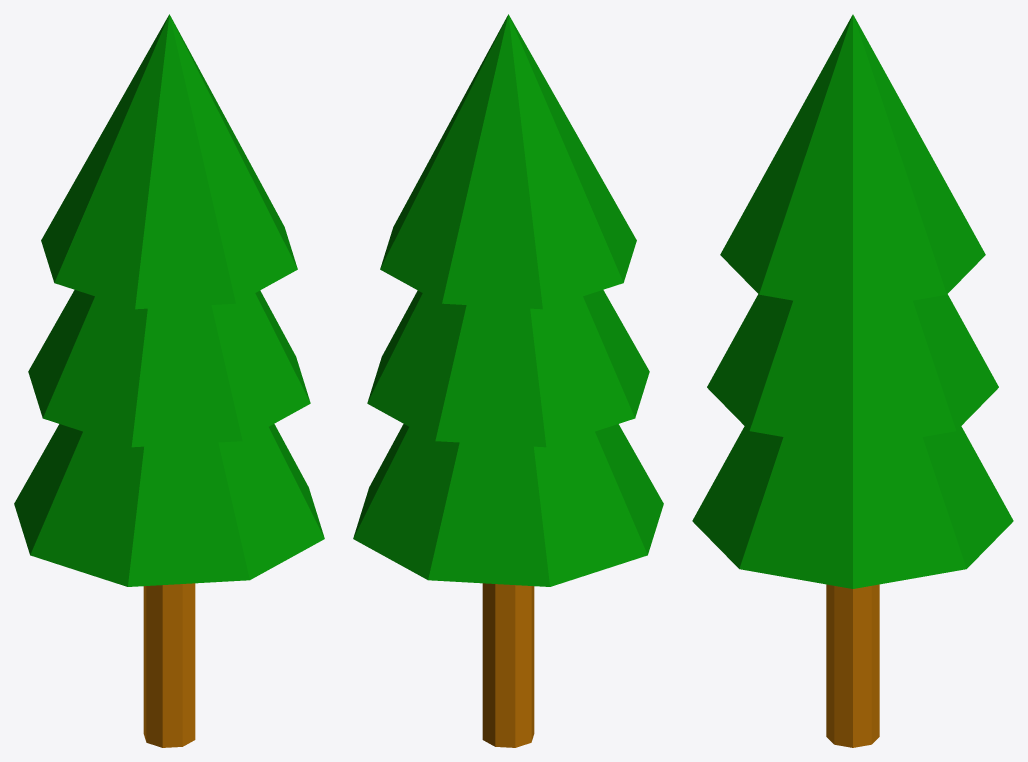
The model's file is Tree 1.fbx.
The picture shows the model from 3 angles, left to right: view 1: azimuth 30°, elevation 25°; view 2: azimuth 150°, elevation 25°; view 3: azimuth 270°, elevation 25°; orthographic projection.
Parts seen in each view (by area): view 1: Tree 1; view 2: Tree 1; view 3: Tree 1.
Part boxes in pixels (x1,y1,x2,y2): Tree 1: (14,14,324,747); Tree 1: (353,14,663,747); Tree 1: (692,14,1013,747).
Bounding box in the file's own units: 242 × 600 × 242.
